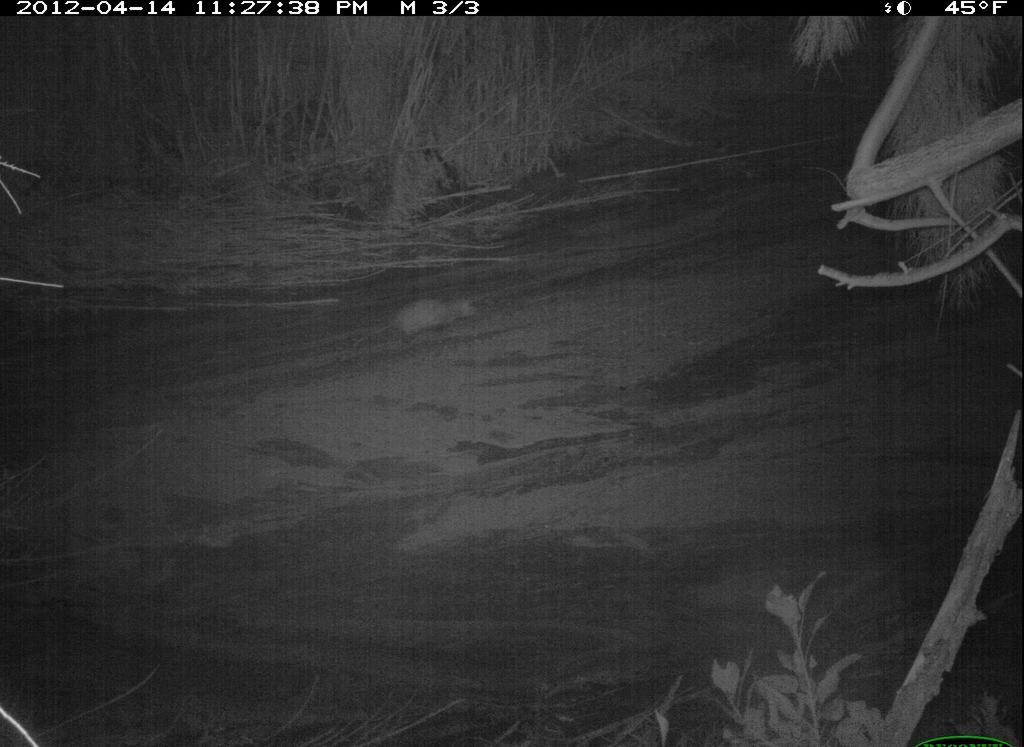opossum: (369, 278, 489, 345)
